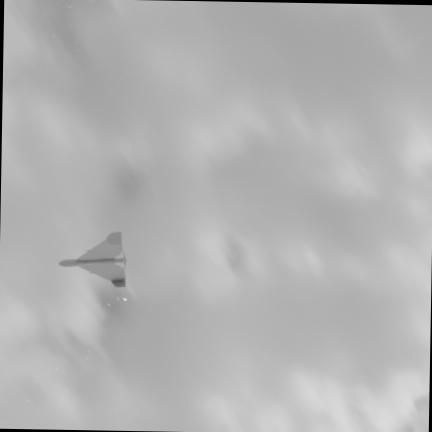Shahed: (59, 231, 125, 285)
